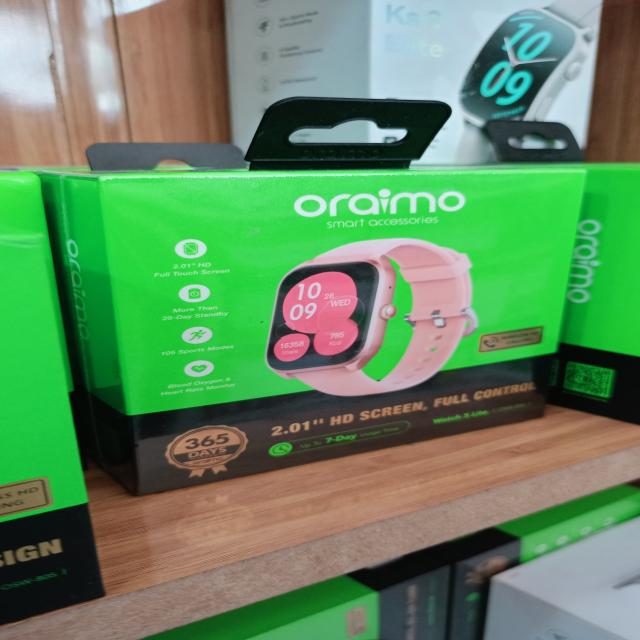Watch 5 Lite OSW-804: (430, 399, 536, 426)
